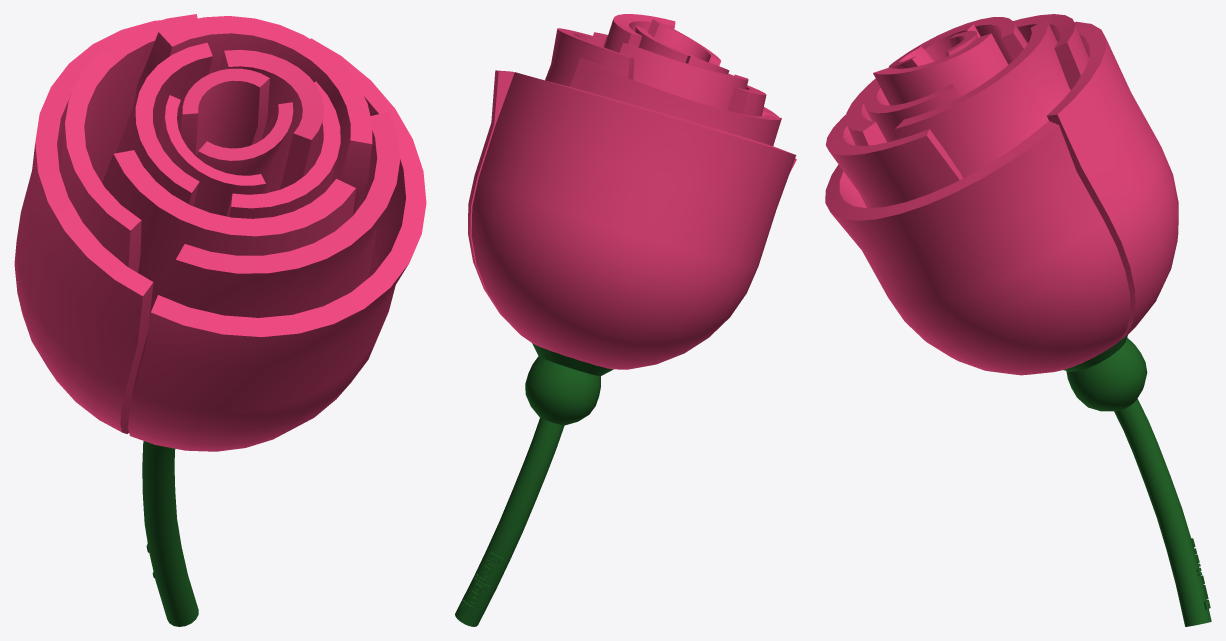
File: tulip.fbx
The picture shows the model from 3 angles, left to right: view 1: azimuth 30°, elevation 25°; view 2: azimuth 150°, elevation 25°; view 3: azimuth 270°, elevation 25°; orthographic projection. The views are drawn at different scales.
Visible parts, largest first — view 1: Sphere.391; view 2: Sphere.391; view 3: Sphere.391.
Boxes of the visible parts, x1,y1,x2,y2 form: Sphere.391: (14,14,426,626); Sphere.391: (455,14,796,626); Sphere.391: (825,14,1211,626).
Bounding box in the file's own units: 122 × 232 × 143.
Materials: 1 (1 with a texture image).
